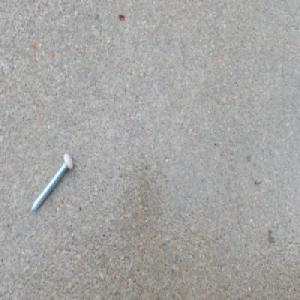Nail: (29, 148, 74, 213)
